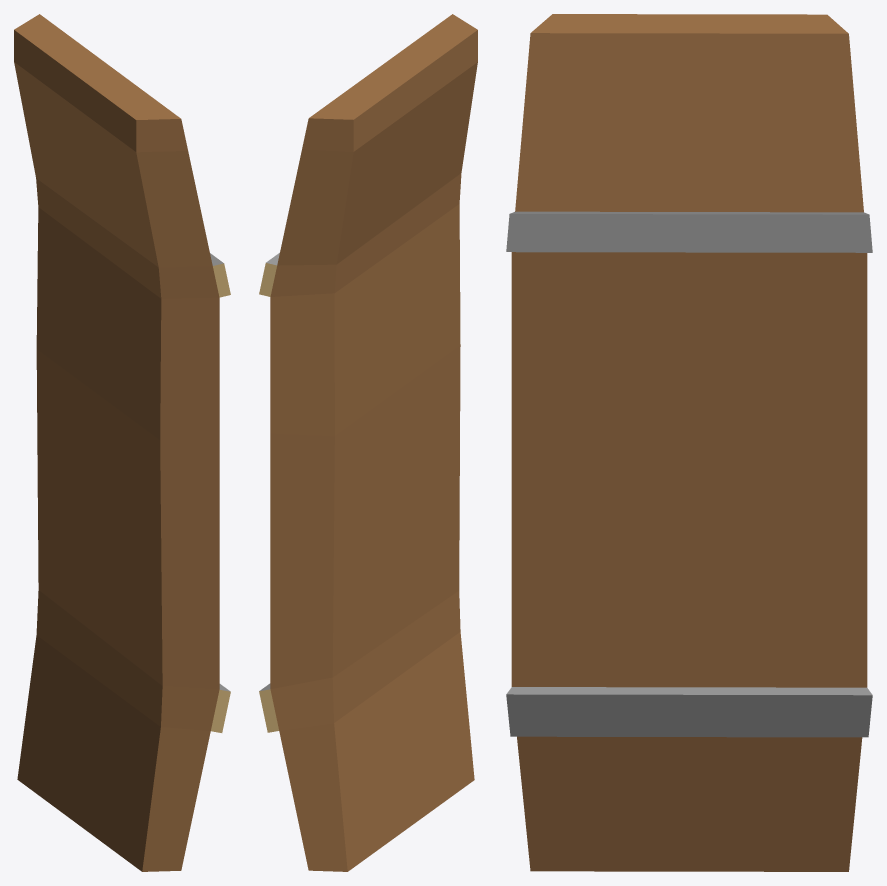
File: WoodBarrelDestroyed.glb
3 views of the same model, side by side, from view 1: azimuth 30°, elevation 25°; view 2: azimuth 150°, elevation 25°; view 3: azimuth 270°, elevation 25° (orthographic). The views are drawn at different scales.
Visible parts, largest first — view 1: WoodBarrelDestroyed2; view 2: WoodBarrelDestroyed2; view 3: WoodBarrelDestroyed2.
Boxes of the visible parts, x1,y1,x2,y2 form: WoodBarrelDestroyed2: (14,14,230,871); WoodBarrelDestroyed2: (259,14,477,871); WoodBarrelDestroyed2: (506,14,872,871).
Size of the model in its own units: 0.1485 by 1.42 by 0.5622.
2 materials, 2 textured.
